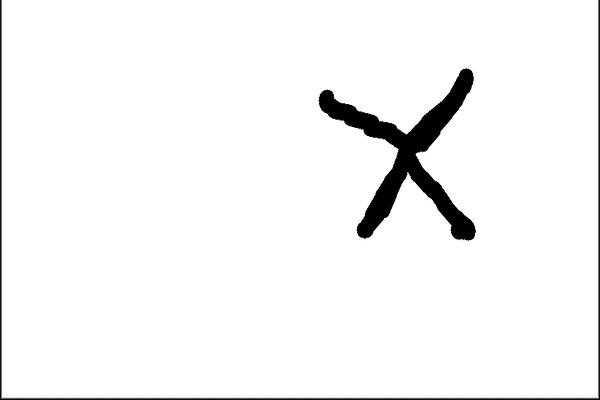X: (286, 59, 511, 245)
